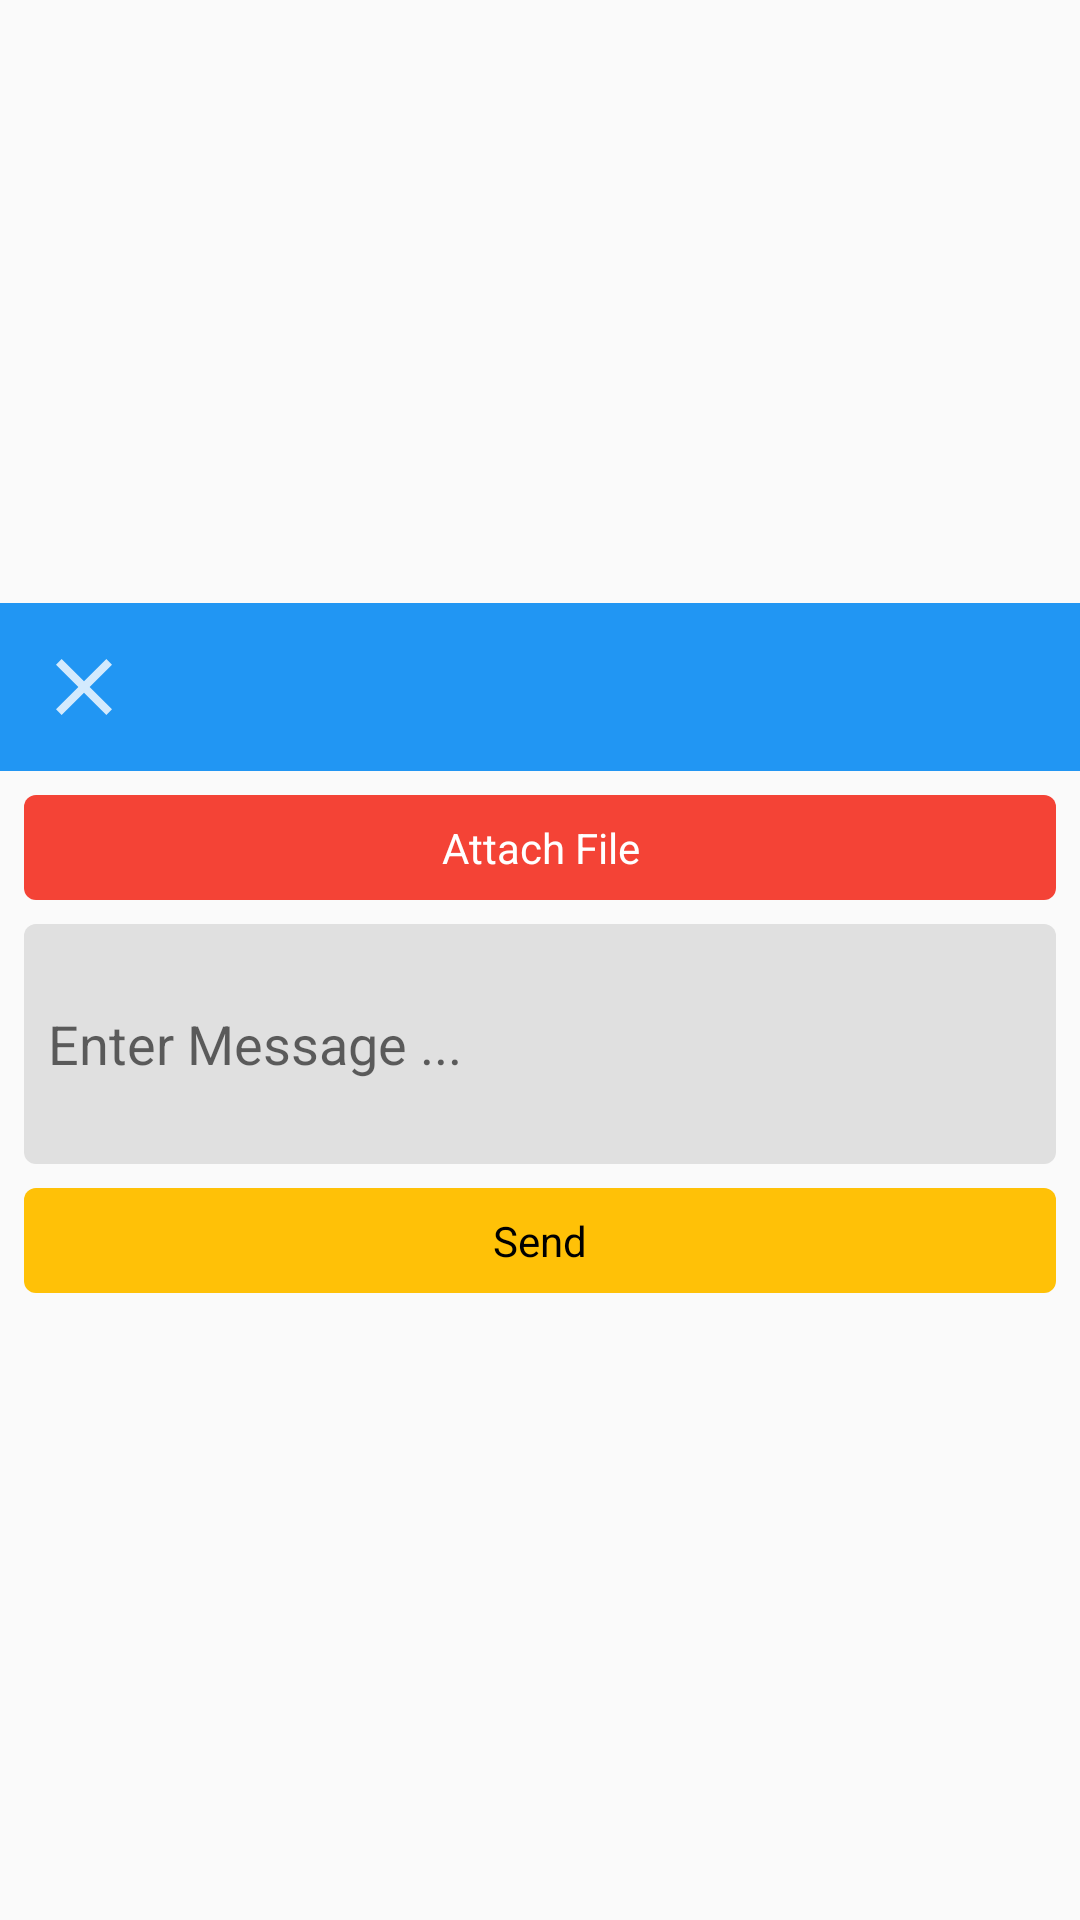

Where icons sit on this 1080px x 1920px app screen, as (x1, y1, x2, y2):
close: (56, 659, 112, 715)
